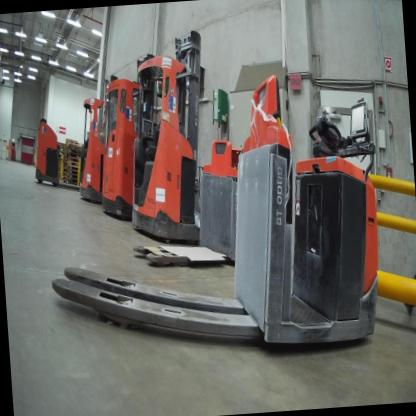forklift: (117, 22, 220, 244), (92, 73, 154, 222), (71, 84, 129, 210)
pallet: (65, 166, 80, 176), (66, 159, 80, 168), (65, 141, 79, 150), (67, 172, 80, 181), (66, 148, 81, 155), (67, 164, 80, 172), (67, 156, 81, 163), (68, 178, 80, 185)
pallet_truck: (32, 61, 408, 365), (111, 118, 270, 291), (27, 108, 91, 195)
